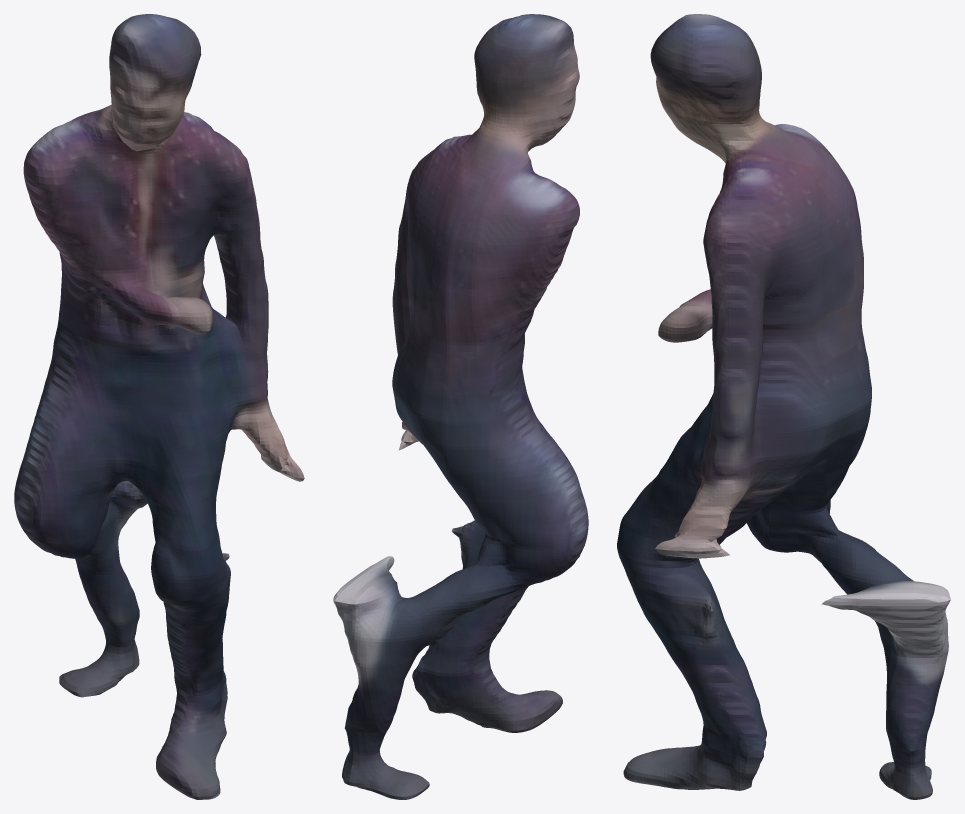
File: 0115_tex.glb
3 renders of one model, left to right at view 1: azimuth 30°, elevation 25°; view 2: azimuth 150°, elevation 25°; view 3: azimuth 270°, elevation 25°, orthographic. The views are drawn at different scales.
Visible parts, largest first — view 1: 0115_tex.obj; view 2: 0115_tex.obj; view 3: 0115_tex.obj.
Part boxes in pixels (x1,y1,x2,y2): 0115_tex.obj: [14, 14, 304, 799]; 0115_tex.obj: [333, 14, 588, 799]; 0115_tex.obj: [617, 14, 950, 799].
Bounding box in the file's own units: 0.2783 × 0.8858 × 0.3598.
